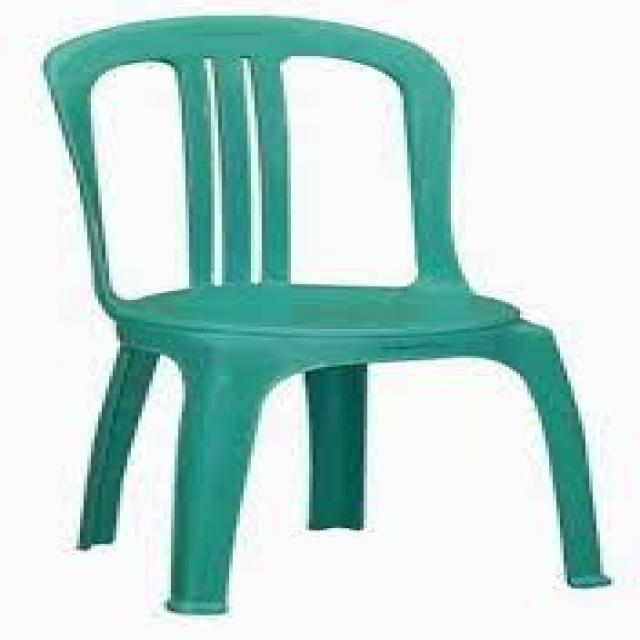chair: (23, 5, 640, 628)
